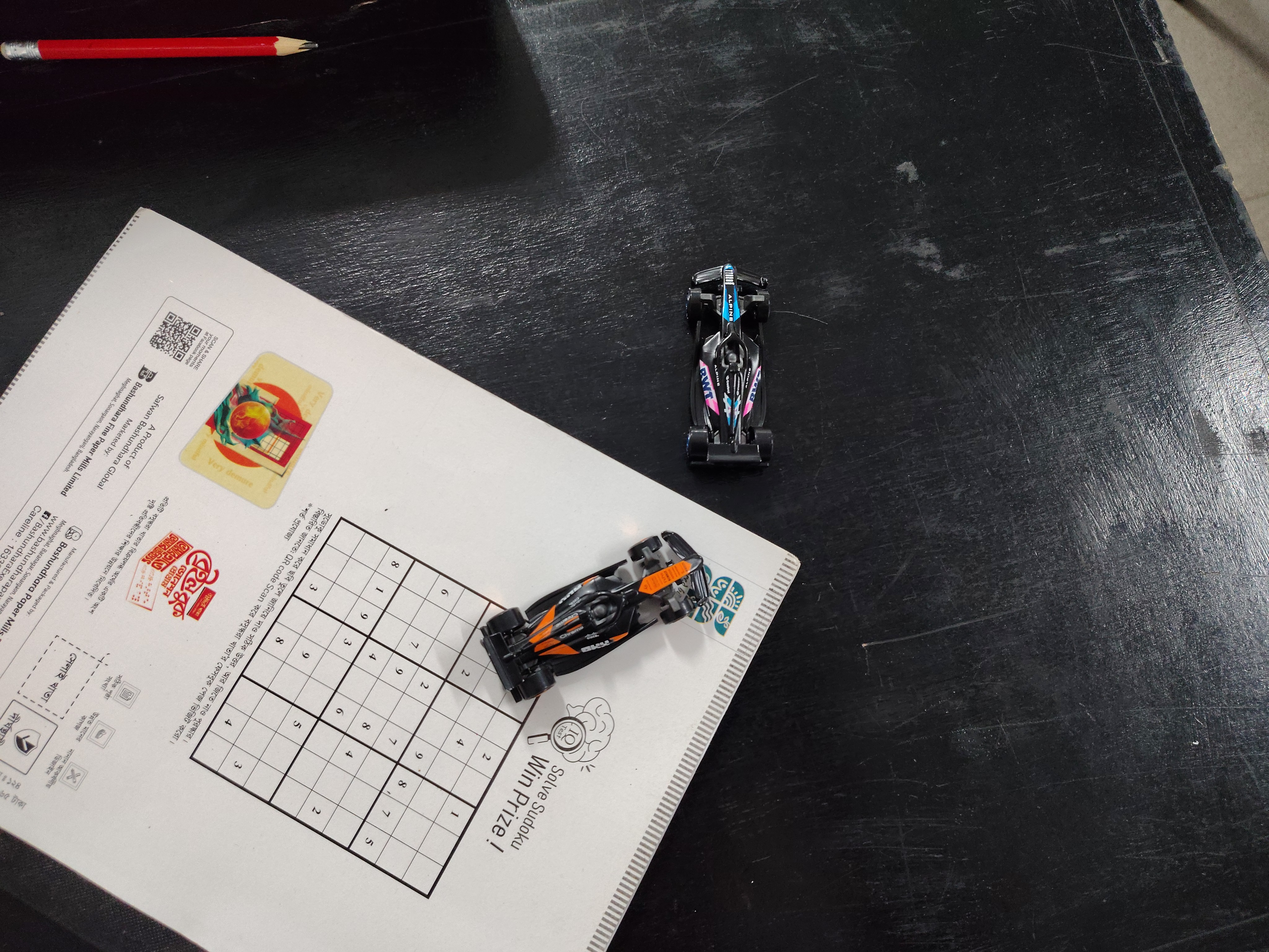Alpine A524: (632, 191, 840, 482)
McLaren MCL40: (415, 518, 739, 674)
